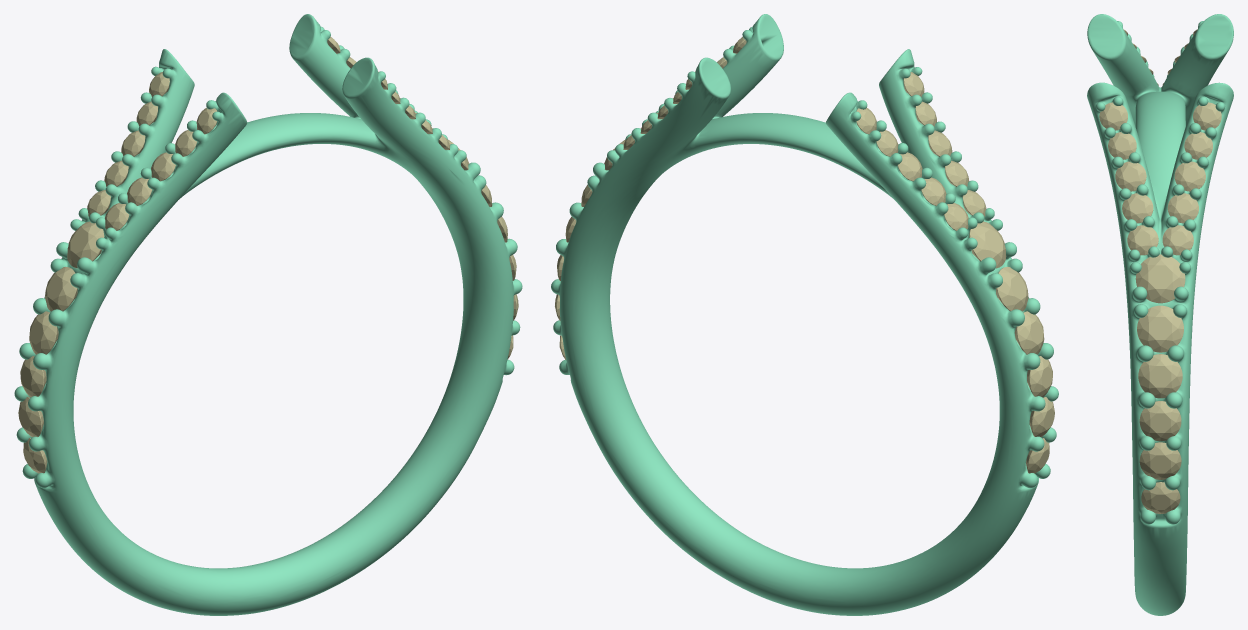
The picture shows the model from 3 angles, left to right: view 1: azimuth 30°, elevation 25°; view 2: azimuth 150°, elevation 25°; view 3: azimuth 270°, elevation 25°; orthographic projection. The views are drawn at different scales.
Visible parts, largest first — view 1: Metal02, Diamond_Gem.016, Diamond_Gem.021, Diamond_Gem.020, Diamond_Gem.019; view 2: Metal02, Diamond_Gem.016, Diamond_Gem.021, Diamond_Gem.020, Diamond_Gem.019; view 3: Metal02, Diamond_Gem.015, Diamond_Gem.010, Diamond_Gem.011, Diamond_Gem.012, Diamond_Gem.013, Diamond_Gem.014, Diamond_Gem.004, Diamond_Gem.005, Diamond_Gem.003, Diamond_Gem.006, Diamond_Gem.007 (+5 smaller).
Part boxes in pixels (x1=…): Metal02: x1=14, y1=14, x2=522, y2=615; Diamond_Gem.016: x1=67, y1=221, x2=104, y2=268; Diamond_Gem.021: x1=45, y1=266, x2=77, y2=311; Diamond_Gem.020: x1=29, y1=311, x2=58, y2=354; Diamond_Gem.019: x1=20, y1=356, x2=46, y2=397; Metal02: x1=551, y1=14, x2=1058, y2=615; Diamond_Gem.016: x1=969, y1=221, x2=1006, y2=268; Diamond_Gem.021: x1=996, y1=266, x2=1028, y2=311; Diamond_Gem.020: x1=1014, y1=311, x2=1044, y2=354; Diamond_Gem.019: x1=1027, y1=356, x2=1052, y2=397; Metal02: x1=1087, y1=14, x2=1233, y2=615; Diamond_Gem.015: x1=1135, y1=254, x2=1185, y2=303; Diamond_Gem.010: x1=1137, y1=305, x2=1183, y2=352; Diamond_Gem.011: x1=1138, y1=354, x2=1182, y2=398; Diamond_Gem.012: x1=1139, y1=401, x2=1181, y2=441; Diamond_Gem.013: x1=1139, y1=442, x2=1181, y2=479; Diamond_Gem.014: x1=1141, y1=482, x2=1180, y2=513; Diamond_Gem.004: x1=1174, y1=161, x2=1205, y2=191; Diamond_Gem.005: x1=1115, y1=161, x2=1146, y2=191; Diamond_Gem.003: x1=1167, y1=193, x2=1198, y2=223; Diamond_Gem.006: x1=1122, y1=193, x2=1153, y2=223; Diamond_Gem.007: x1=1127, y1=225, x2=1158, y2=255.
Bounding box in the file's own units: 21.34 × 22.91 × 5.62.
